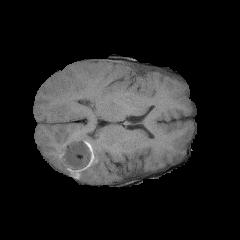glioma: (46, 62, 165, 177)
